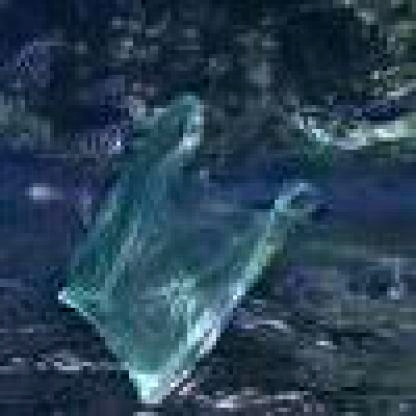pbag: (58, 96, 324, 408)
